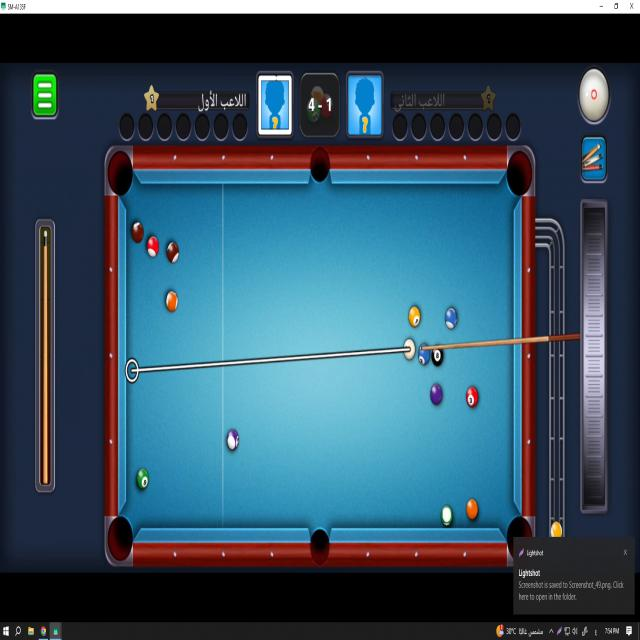object_ball: (166, 290, 178, 312), (430, 384, 442, 405), (167, 242, 178, 263), (409, 306, 420, 327), (419, 344, 430, 365), (441, 505, 452, 526), (445, 308, 456, 329), (227, 430, 238, 450), (132, 222, 143, 242), (137, 469, 148, 489), (466, 499, 477, 519), (467, 387, 478, 407), (148, 237, 158, 257), (432, 350, 443, 366)
white_cue_ball: (404, 339, 415, 360)
